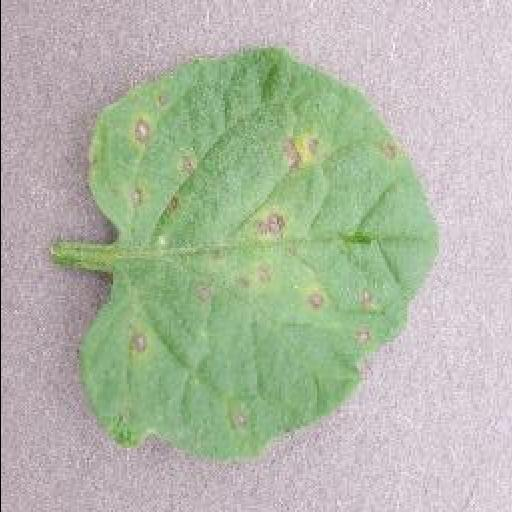disease_tomato: (77, 48, 443, 460)
